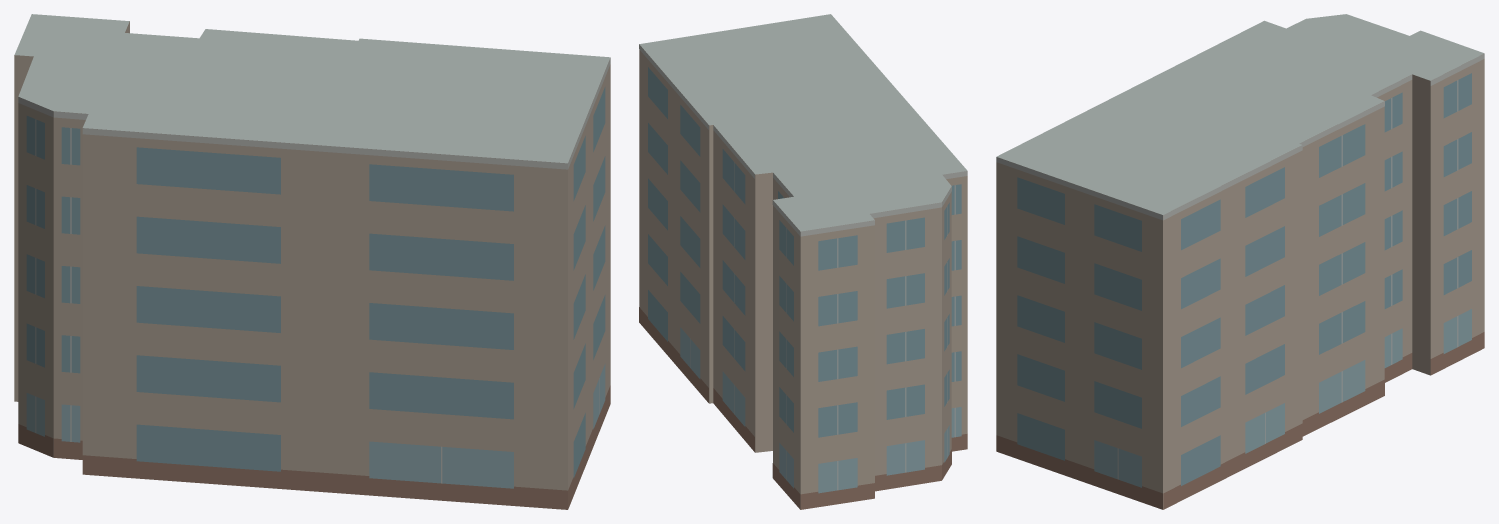
Rendered from survey-upis-32670370.glb.
The picture shows the model from 3 angles, left to right: view 1: azimuth 30°, elevation 25°; view 2: azimuth 150°, elevation 25°; view 3: azimuth 270°, elevation 25°; orthographic projection. The views are drawn at different scales.
Visible parts, largest first — view 1: survey-upis-32670370.tmp; view 2: survey-upis-32670370.tmp; view 3: survey-upis-32670370.tmp.
Boxes of the visible parts, <box> form: survey-upis-32670370.tmp: <box>14,14,610,509</box>; survey-upis-32670370.tmp: <box>639,14,967,509</box>; survey-upis-32670370.tmp: <box>996,14,1484,509</box>.
Bounding box in the file's own units: 19.77 × 13.5 × 20.28.
